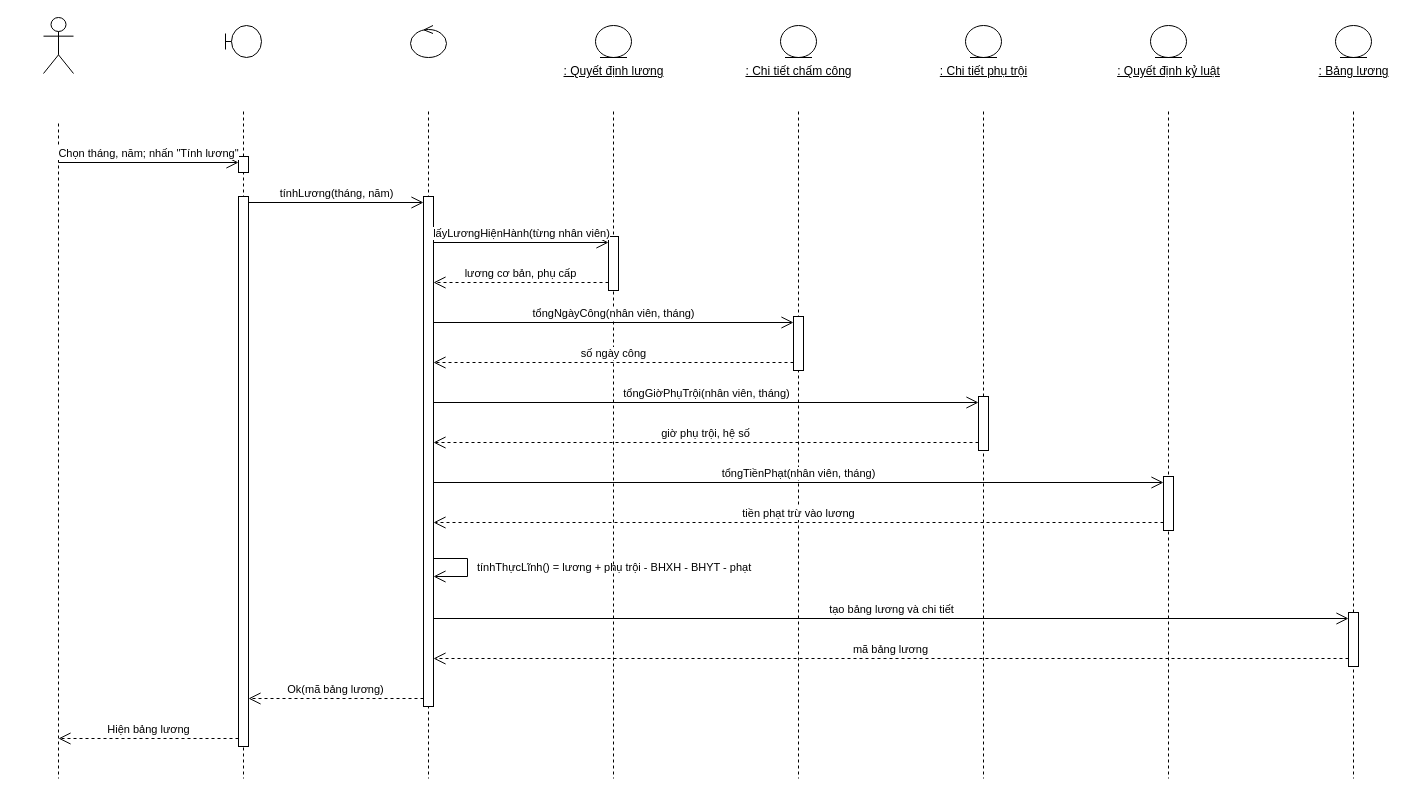
The diagram is 1406 pixels wide and 797 high, and some of its shapes have lost their labels. Here are the shapes that lost their labels. From the top down, the centre of each, then its label:
At (x=58, y=45): ": Kế toán lương".
At (x=243, y=41): ": Màn hình tính lương".
At (x=428, y=41): ": Điều khiển tính lương".
